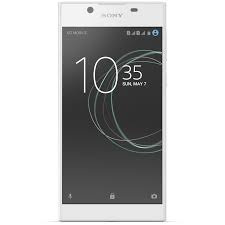sony: (59, 1, 169, 225)
